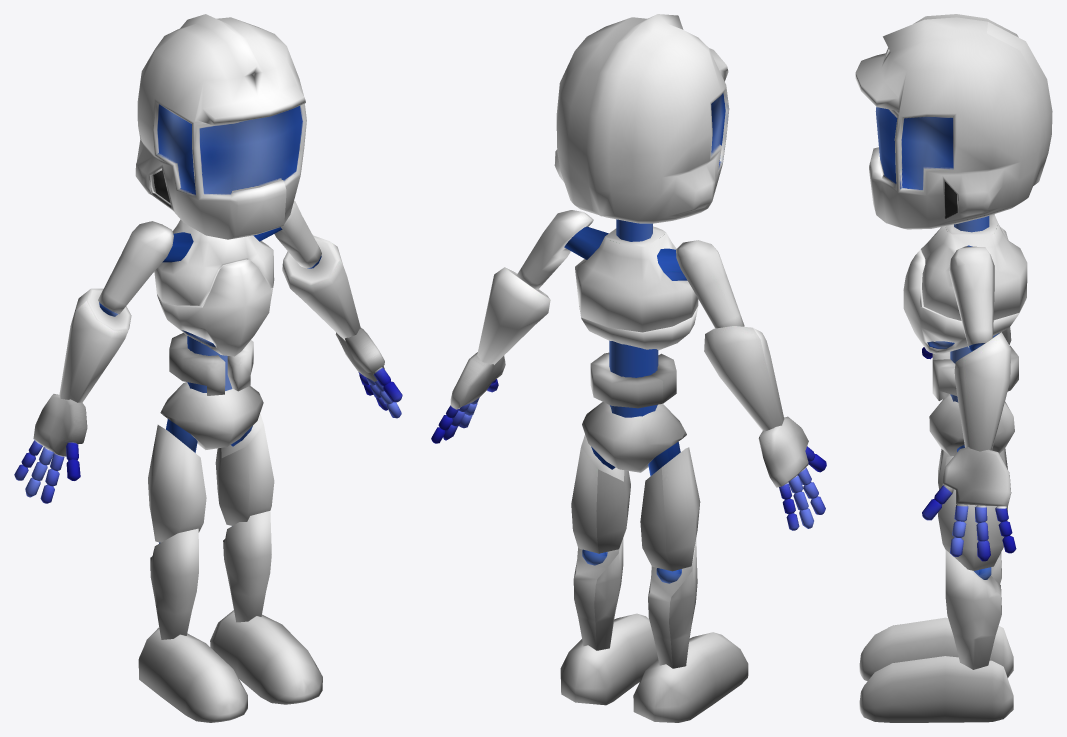
The model's file is tgcito.obj.
The picture shows the model from 3 angles, left to right: view 1: azimuth 30°, elevation 25°; view 2: azimuth 150°, elevation 25°; view 3: azimuth 270°, elevation 25°; orthographic projection. The views are drawn at different scales.
Parts seen in each view (by area): view 1: Object03; view 2: Object03; view 3: Object03.
Part boxes in pixels (x1=…): Object03: x1=14, y1=14, x2=402, y2=722; Object03: x1=431, y1=14, x2=826, y2=722; Object03: x1=855, y1=14, x2=1052, y2=722.
Bounding box in the file's own units: 77.26 × 133 × 35.32.
